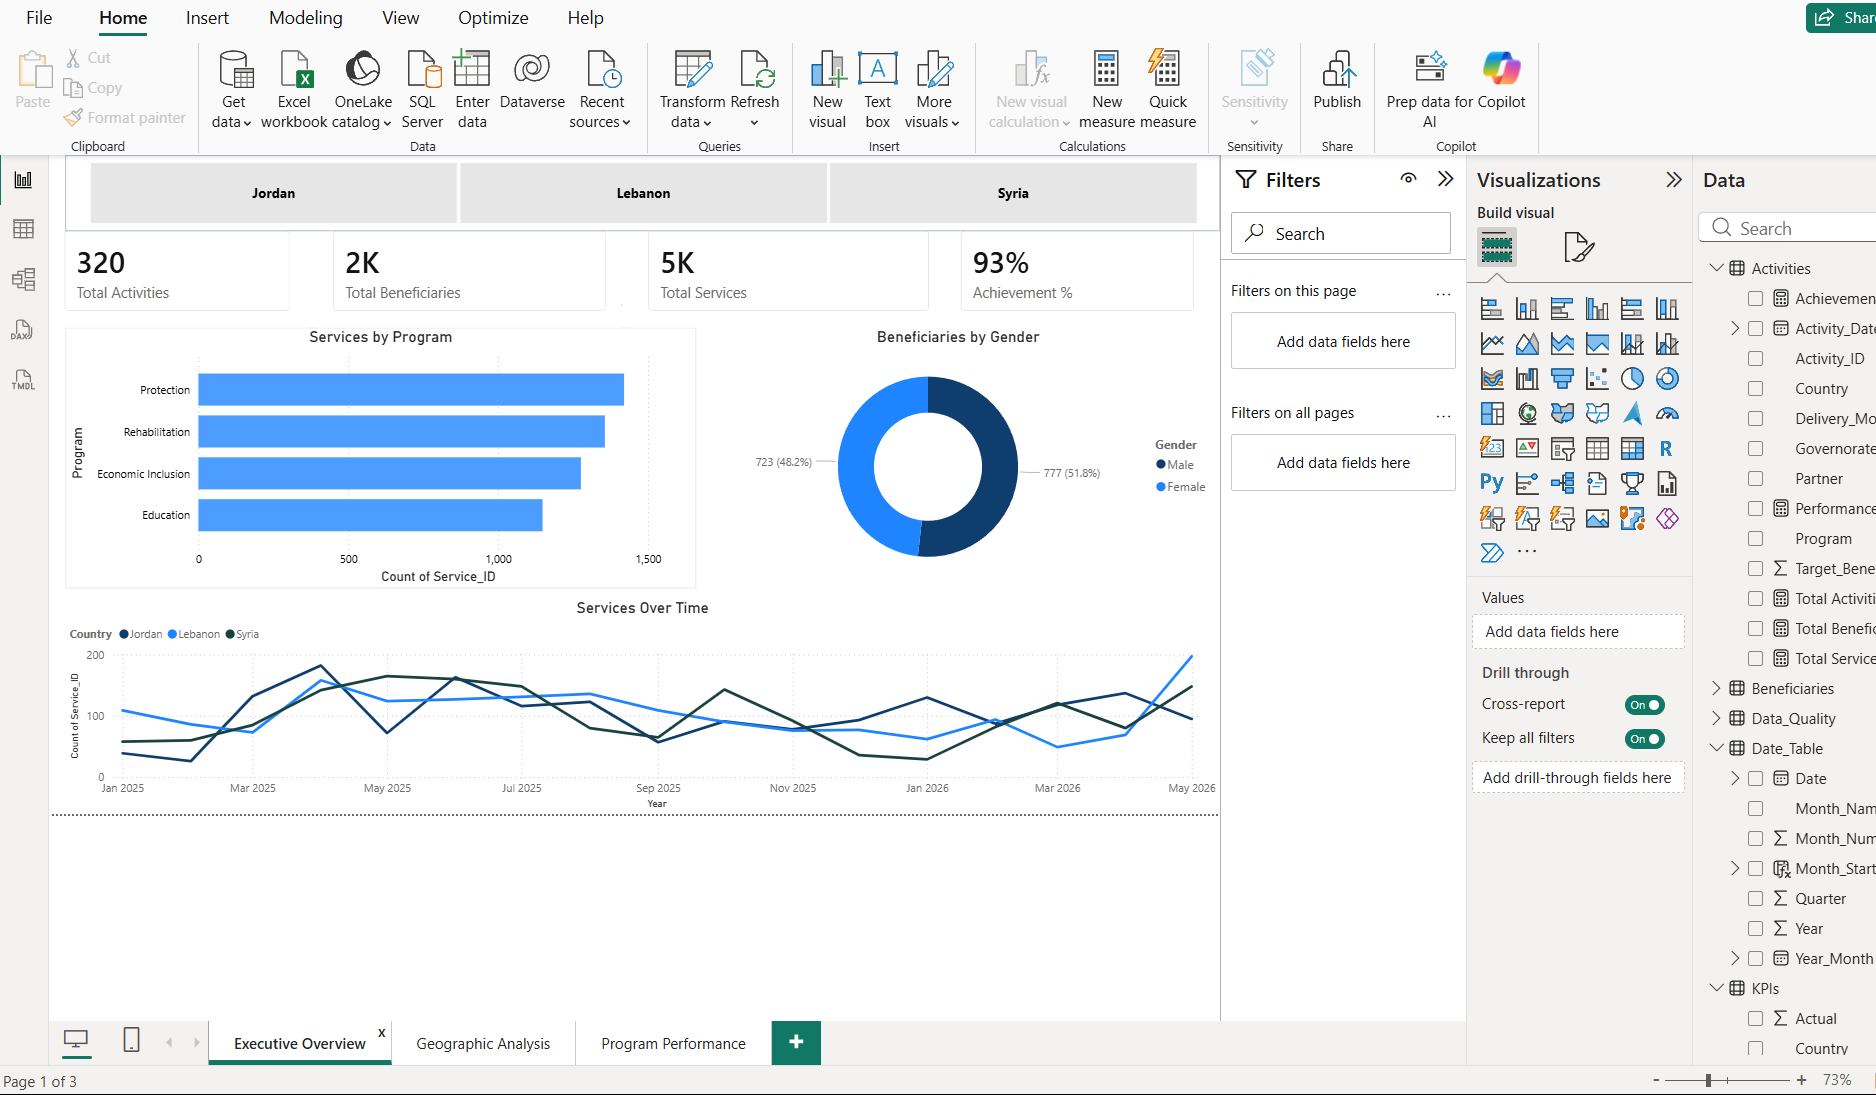

Layout of this report page (visuals, bound fields, positions):
{"tool":"powerbi","page":{"name":"Executive Overview","canvas":[1280,720],"ordinal":0},"visuals":[{"type":"cardVisual","fields":{"Data":["Activities.Total Activities"]},"box":[0,65.6,280.4,123],"z":0,"group":"g1"},{"type":"donutChart","title":"Beneficiaries by Gender","fields":{"Category":["Beneficiaries.Gender"],"Y":["CountNonNull(Beneficiaries.Beneficiary_ID)"]},"box":[707.8,188.6,572.5,285.6],"z":0},{"type":"group","id":"g1","title":"Group 2","box":[0,65.6,1269.3,123],"z":7,"group":"g2"},{"type":"cardVisual","fields":{"Data":["Activities.Total Beneficiaries"]},"box":[293.4,65.6,332.1,123],"z":1000,"group":"g1"},{"type":"clusteredBarChart","title":"Services by Program","fields":{"Category":["Services.Program"],"Y":["CountNonNull(Services.Service_ID)"]},"box":[17.8,188.6,690,285.6],"z":1000},{"type":"group","id":"g2","title":"Group 1","box":[0,65.6,1269.3,123],"z":2000},{"type":"cardVisual","fields":{"Data":["Activities.Total Services"]},"box":[638.4,65.6,341.3,123],"z":2000,"group":"g1"},{"type":"cardVisual","fields":{"Data":["Activities.Achievement %"]},"box":[979.7,65.6,289.7,123],"z":3000,"group":"g1"},{"type":"lineChart","title":"Services Over Time","fields":{"Y":["CountNonNull(Services.Service_ID)"],"Series":["Activities.Country"],"Category":["Date_Table.Year_Month.Variation.Date Hierarchy.Year","Date_Table.Year_Month.Variation.Date Hierarchy.Month"]},"box":[17.8,485.1,1262.5,235],"z":3000},{"type":"slicer","fields":{"Values":["Activities.Country"]},"box":[17.8,0,1262.5,83.3],"z":4000}]}

Visuals, with their boxes on the page's 1280x720 design canvas (x1, y1, x2, y2). These are canvas units, not pixel positions in the 1876x1095 screenshot, which may show the page scaled, cropped or inside an application window:
cardVisual - Activities.Total Activities: 0/66/280/189
"Beneficiaries by Gender" donutChart: 708/189/1280/474
"Group 2" group: 0/66/1269/189
cardVisual - Activities.Total Beneficiaries: 293/66/626/189
"Services by Program" clusteredBarChart: 18/189/708/474
"Group 1" group: 0/66/1269/189
cardVisual - Activities.Total Services: 638/66/980/189
cardVisual - Activities.Achievement %: 980/66/1269/189
"Services Over Time" lineChart: 18/485/1280/720
slicer - Activities.Country: 18/0/1280/83
